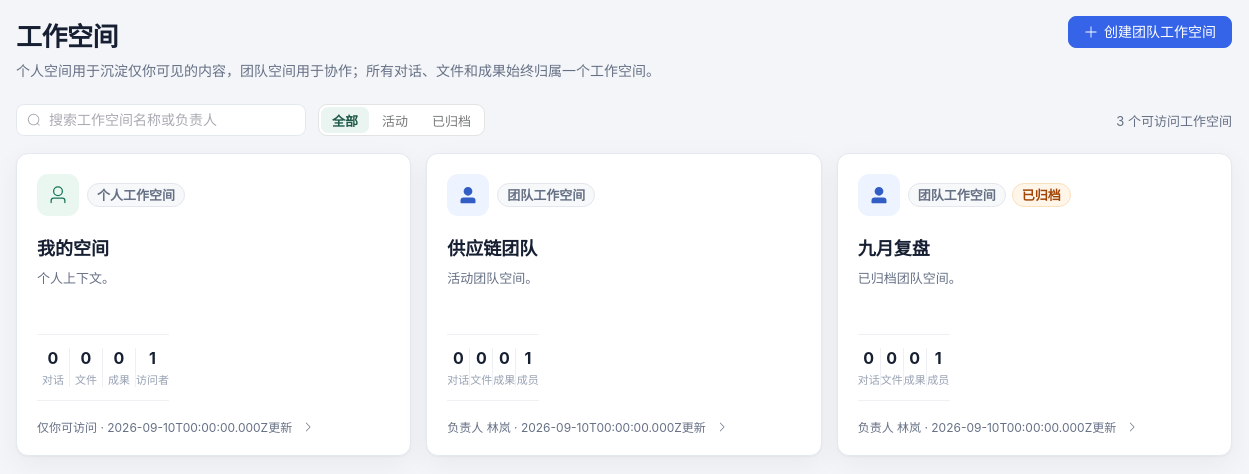
Test: WorkspacesView 归档筛选与归档卡片（design §2.1 / §6） › switching to 已归档 requests ?status=archived, writes the route query and only shows archived team spaces
This screenshot has width=1249, height=474.
Click the tab with test id "workspace-filter-archived": (452, 120) [421,107,482,133]
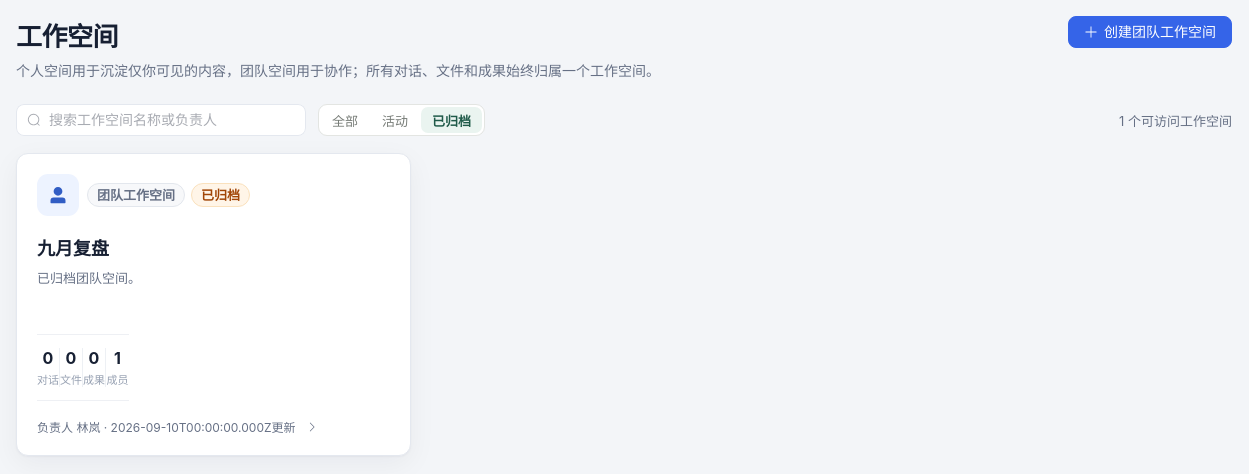
Expected: the text "已归档" is shown, [191,183,250,207]
Expected: the text "1 个可访问工作空间" is shown, [1119,111,1232,130]
Expected: the text "我的空间" is gone
